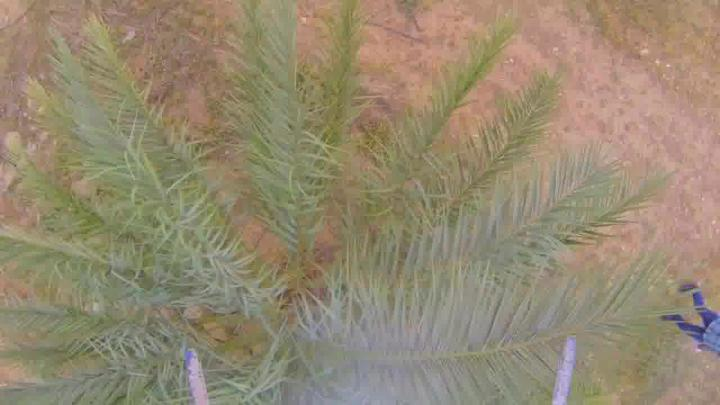Date-Palm-Crown: (99, 112, 485, 404)
